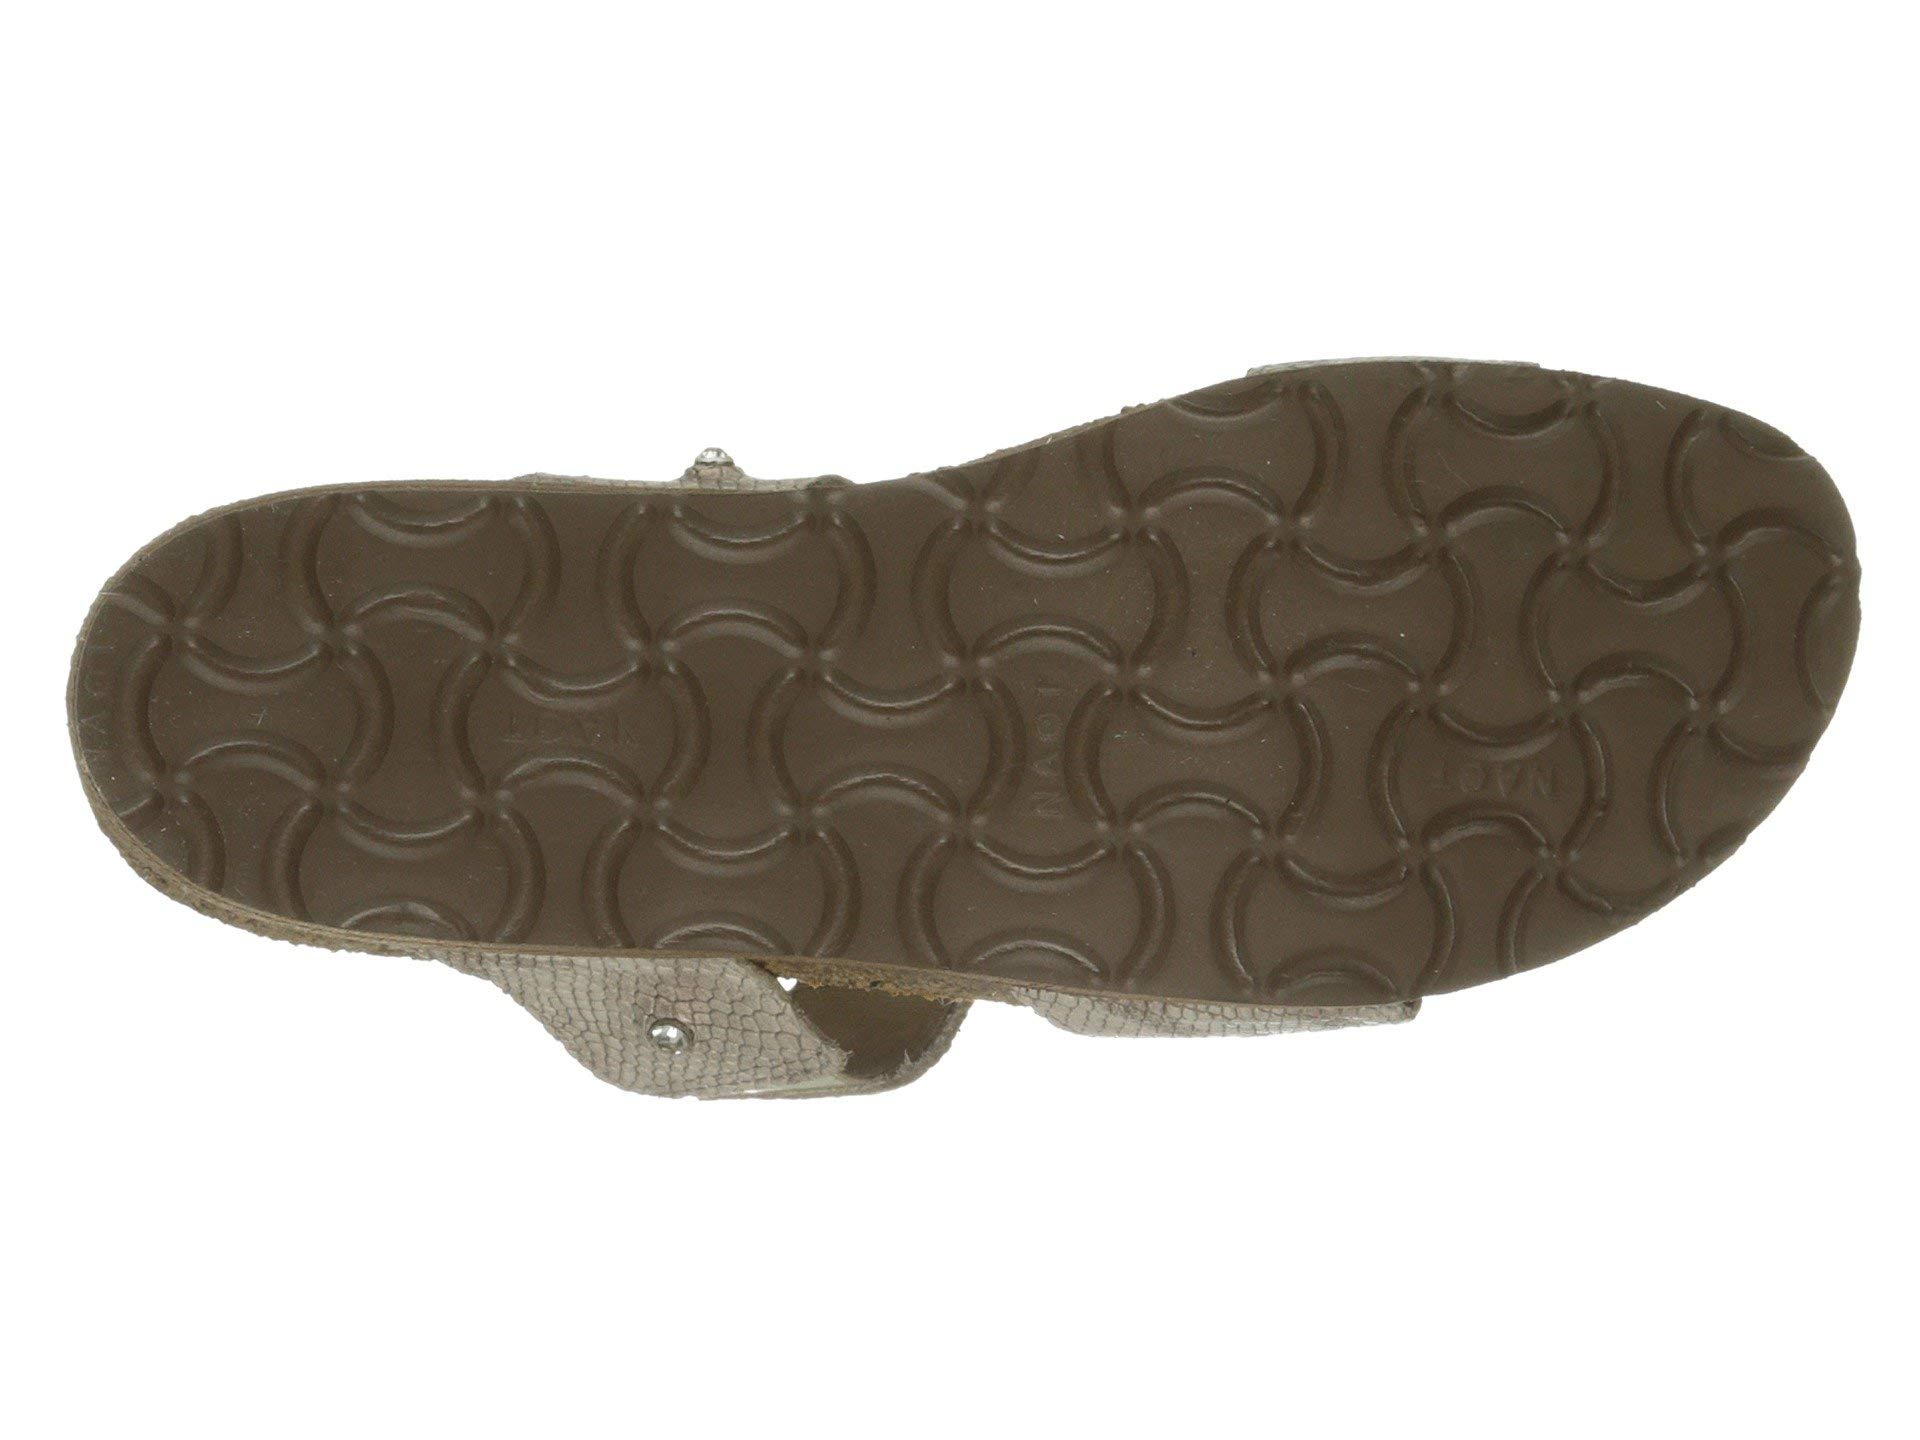bowtie: (187, 520, 1349, 967), (1318, 402, 1705, 883)
text: (187, 520, 1349, 967), (1318, 402, 1705, 883)
